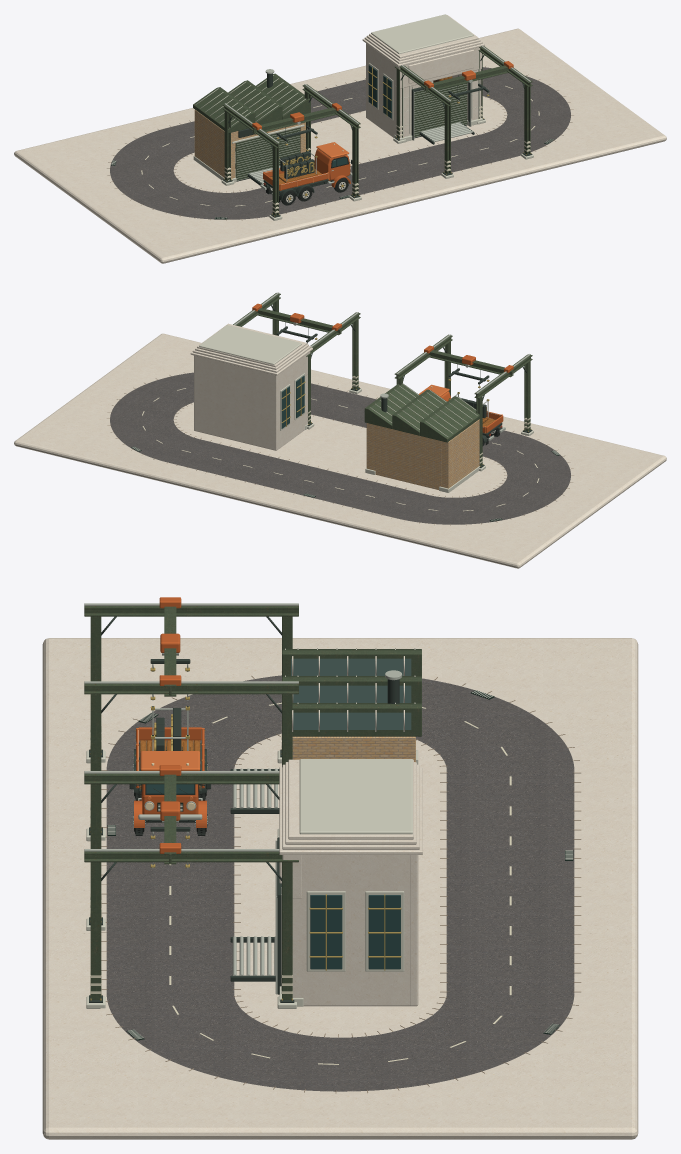
File: factory.glb
3 views of the same model, one above another, from view 1: azimuth 30°, elevation 25°; view 2: azimuth 150°, elevation 25°; view 3: azimuth 270°, elevation 25° (orthographic). The views are drawn at different scales.
Parts seen in each view (by area): view 1: Architecture_imagegen limestone plinth, Architecture_imagegen asphalt, Warehouse_imagegen limestone trim, Foundry_imagegen sage steel, Architecture_imagegen limestone trim, Warehouse_trim, Source_imagegen sage steel, Receiver_imagegen sage steel, Foundry_imagegen warm brick, SourceDoor_imagegen sage steel, ReceiverDoor_imagegen sage steel, Truck_orange (+11 smaller); view 2: Architecture_imagegen limestone plinth, Architecture_imagegen asphalt, Warehouse_imagegen limestone trim, Foundry_imagegen warm brick, Foundry_imagegen sage steel, Architecture_imagegen limestone trim, Warehouse_trim, Source_imagegen sage steel, Receiver_imagegen sage steel, Foundry_trim, Warehouse_glass, ReceiverBridge_imagegen sage steel (+1 smaller); view 3: Architecture_imagegen limestone plinth, Architecture_imagegen asphalt, Warehouse_imagegen limestone trim, Architecture_imagegen limestone trim, Warehouse_trim, Receiver_imagegen sage steel, Source_imagegen sage steel, Foundry_glassLight, Foundry_imagegen sage steel, Warehouse_glass, Foundry_imagegen warm brick, Truck_orange (+11 smaller).
Boxes of the visible parts, x1,y1,x2,y2 form: Architecture_imagegen limestone plinth: (14, 28, 666, 263); Architecture_imagegen asphalt: (110, 67, 570, 219); Warehouse_imagegen limestone trim: (362, 15, 484, 137); Foundry_imagegen sage steel: (193, 73, 310, 133); Architecture_imagegen limestone trim: (105, 65, 575, 221); Warehouse_trim: (368, 14, 483, 141); Source_imagegen sage steel: (222, 84, 360, 216); Receiver_imagegen sage steel: (395, 46, 532, 174); Foundry_imagegen warm brick: (194, 110, 305, 178); SourceDoor_imagegen sage steel: (235, 127, 300, 180); ReceiverDoor_imagegen sage steel: (414, 83, 467, 136); Truck_orange: (263, 149, 350, 190); Architecture_imagegen limestone plinth: (14, 333, 666, 568); Architecture_imagegen asphalt: (110, 372, 570, 524); Warehouse_imagegen limestone trim: (190, 323, 312, 450); Foundry_imagegen warm brick: (366, 419, 479, 489); Foundry_imagegen sage steel: (364, 383, 479, 442); Architecture_imagegen limestone trim: (105, 370, 575, 526); Warehouse_trim: (199, 325, 308, 430); Source_imagegen sage steel: (394, 334, 532, 466); Receiver_imagegen sage steel: (233, 293, 360, 423); Foundry_trim: (365, 383, 479, 492); Warehouse_glass: (281, 375, 304, 428); ReceiverBridge_imagegen sage steel: (257, 308, 341, 335); Architecture_imagegen limestone plinth: (42, 638, 638, 1139); Architecture_imagegen asphalt: (106, 675, 574, 1091); Warehouse_imagegen limestone trim: (279, 759, 422, 1006); Architecture_imagegen limestone trim: (100, 671, 583, 1094); Warehouse_trim: (279, 759, 412, 1006); Receiver_imagegen sage steel: (84, 773, 298, 999); Source_imagegen sage steel: (84, 606, 298, 770); Foundry_glassLight: (291, 658, 411, 729); Foundry_imagegen sage steel: (282, 649, 421, 736); Warehouse_glass: (310, 895, 400, 969); Foundry_imagegen warm brick: (292, 736, 415, 761); Truck_orange: (134, 727, 206, 827).
Size of the model in its own units: 33 by 5.71 by 16.8.
Materials: 22 (6 with a texture image).
